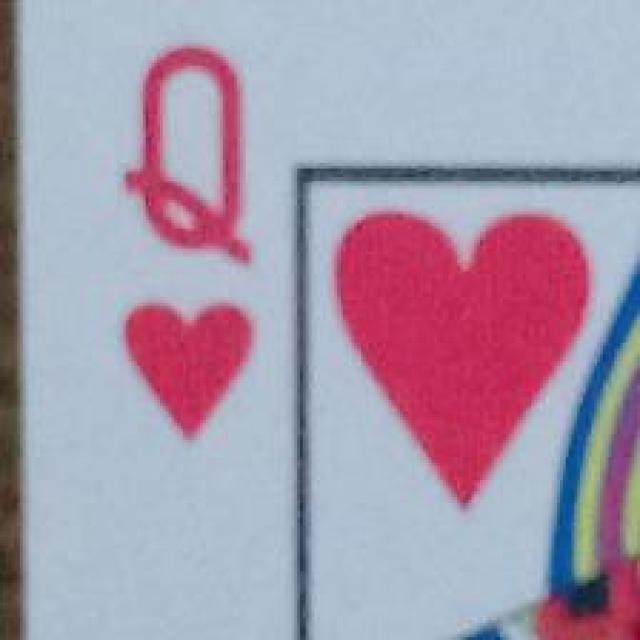Queen of hearts: (17, 2, 640, 640)
